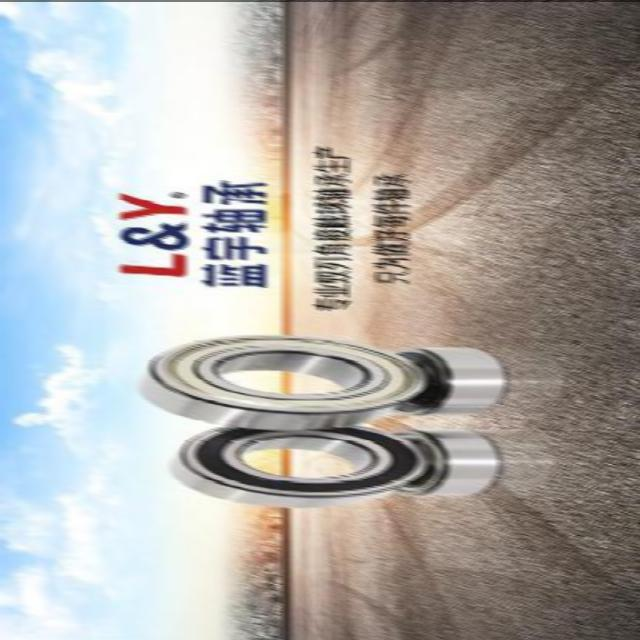Bearing: (134, 330, 430, 432), (168, 421, 426, 509), (399, 342, 507, 419), (393, 422, 501, 498)
